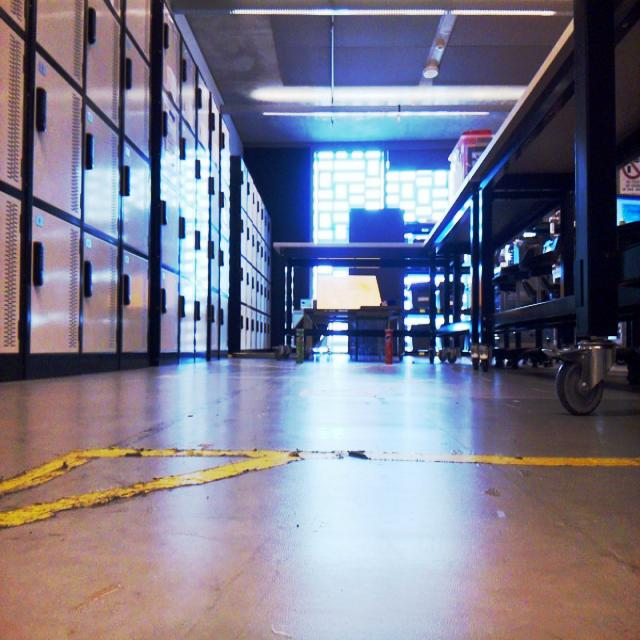greenpringles: (289, 316, 315, 374)
redpringles: (377, 320, 398, 365)
